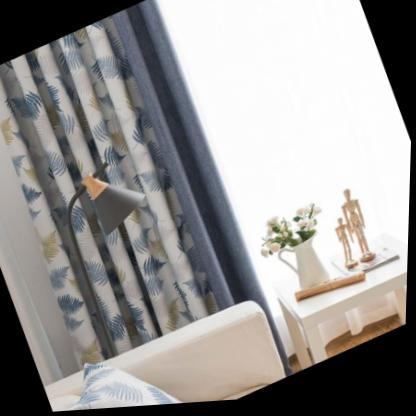Curtains: (0, 0, 275, 379)
